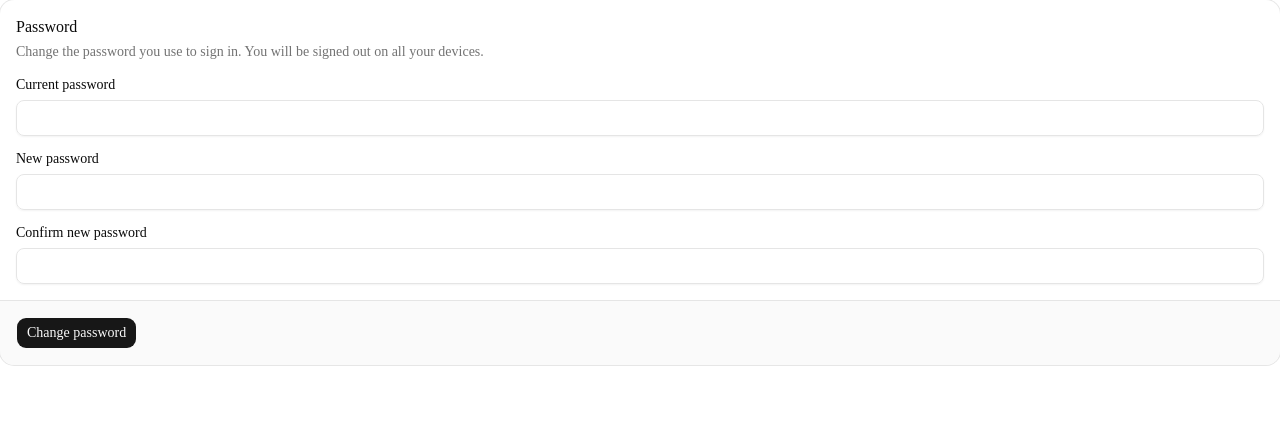
PasswordCard › a wrong current password keeps the form and explains why
The width and height of the screenshot is (1280, 437).
Type "s3cret-password" into the password field labelled "Current password" at (640, 118), box [16,100,1264,136]
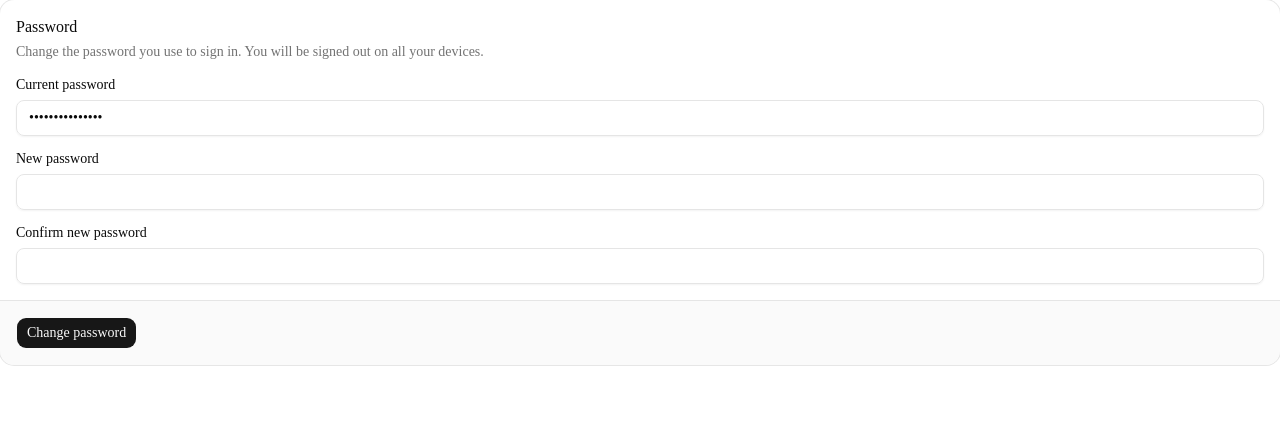
Type "n3w-s3cret-password" into the password field labelled "New password" at (640, 192), box [16,174,1264,210]
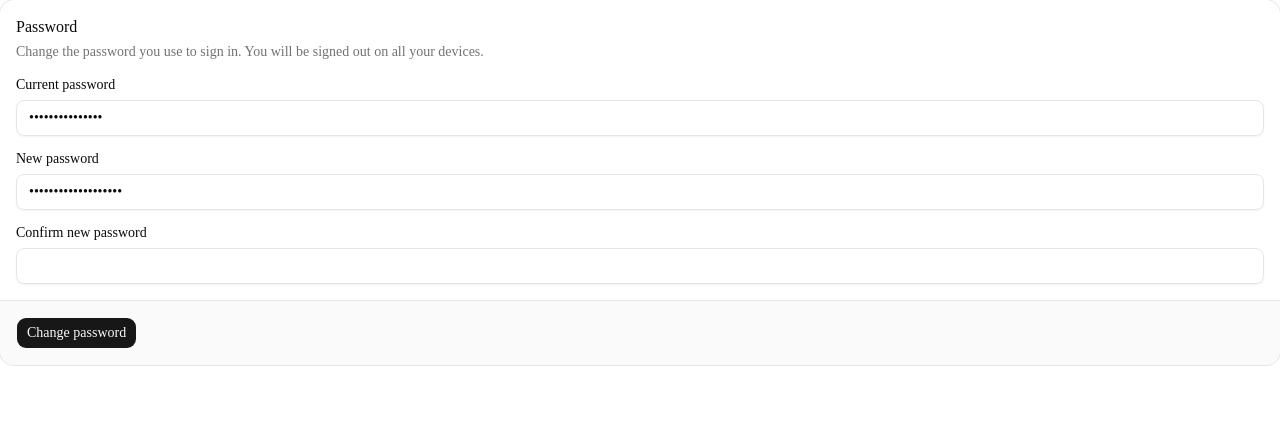
Type "n3w-s3cret-password" into the password field labelled "Confirm new password" at (640, 266), box [16,248,1264,284]
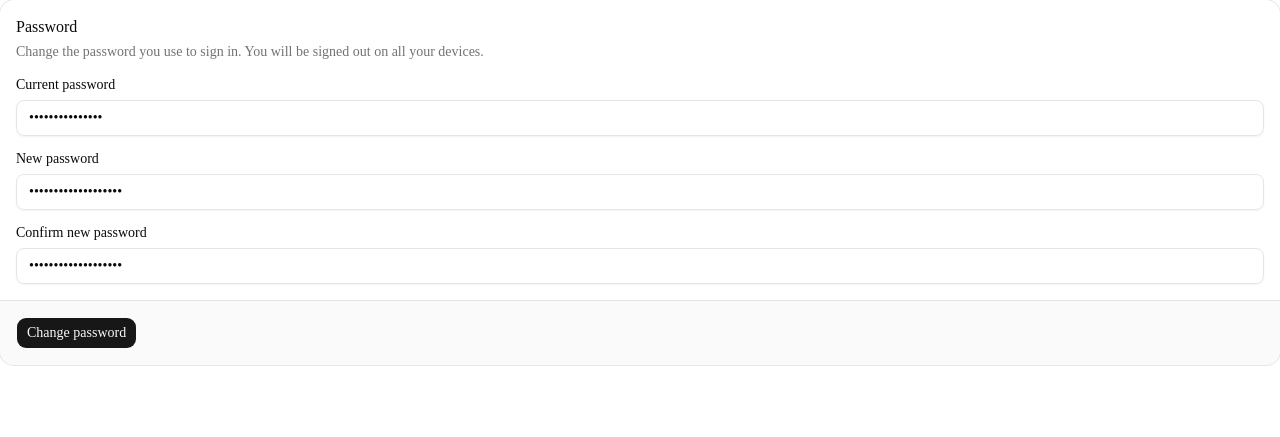
Click the button "Change password" at (77, 333), box [16,317,137,349]
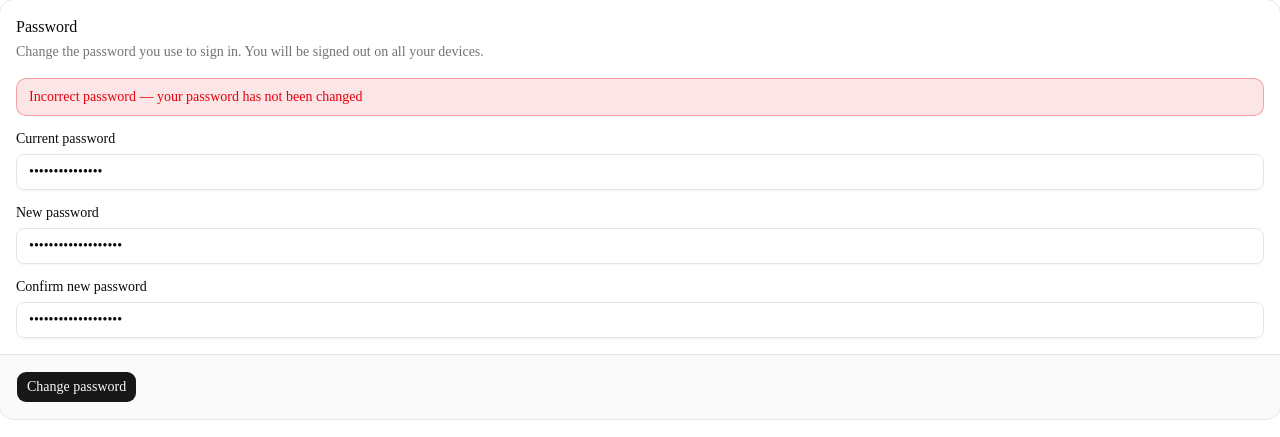
Expected: the button "Change password" is shown, [16,371,137,403]
Result: the text "Incorrect password — your password has not been changed" is shown at [16,78,1264,116]
